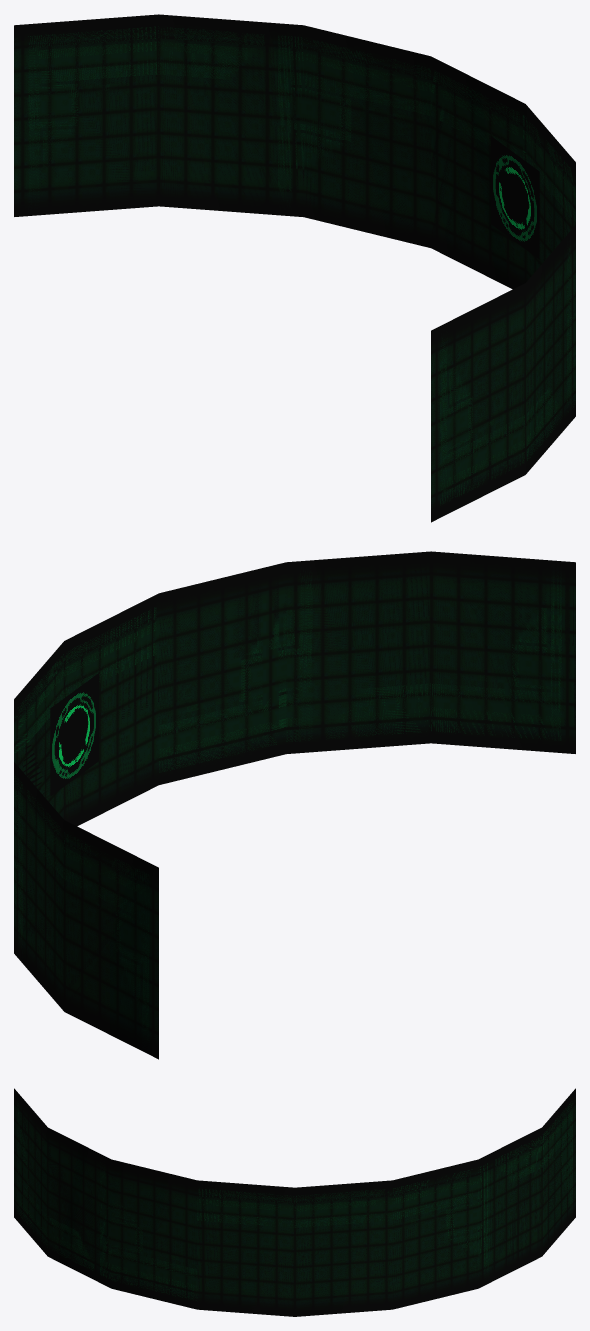
File: RallyDamageAnimated.fbx
The picture shows the model from 3 angles, top to bottom: view 1: azimuth 30°, elevation 25°; view 2: azimuth 150°, elevation 25°; view 3: azimuth 270°, elevation 25°; orthographic projection. The views are drawn at different scales.
Parts seen in each view (by area): view 1: GRAPH, LEFT FRAME, RIGHT FRAME, TARGET; view 2: GRAPH, RIGHT FRAME, LEFT FRAME, TARGET; view 3: GRAPH, LEFT FRAME, RIGHT FRAME.
Part boxes in pixels (left/top/right/bottom): GRAPH: left=14, top=14, right=575, bottom=522; LEFT FRAME: left=14, top=15, right=575, bottom=287; RIGHT FRAME: left=431, top=226, right=575, bottom=520; TARGET: left=491, top=136, right=539, bottom=259; GRAPH: left=14, top=551, right=575, bottom=1059; RIGHT FRAME: left=159, top=551, right=575, bottom=783; LEFT FRAME: left=14, top=595, right=158, bottom=1058; TARGET: left=50, top=673, right=98, bottom=796; GRAPH: left=14, top=1088, right=575, bottom=1316; LEFT FRAME: left=197, top=1089, right=575, bottom=1316; RIGHT FRAME: left=14, top=1091, right=197, bottom=1308.
Bounding box in the file's own units: 70.03 × 42.37 × 167.
Materials: 4 (4 with a texture image).
